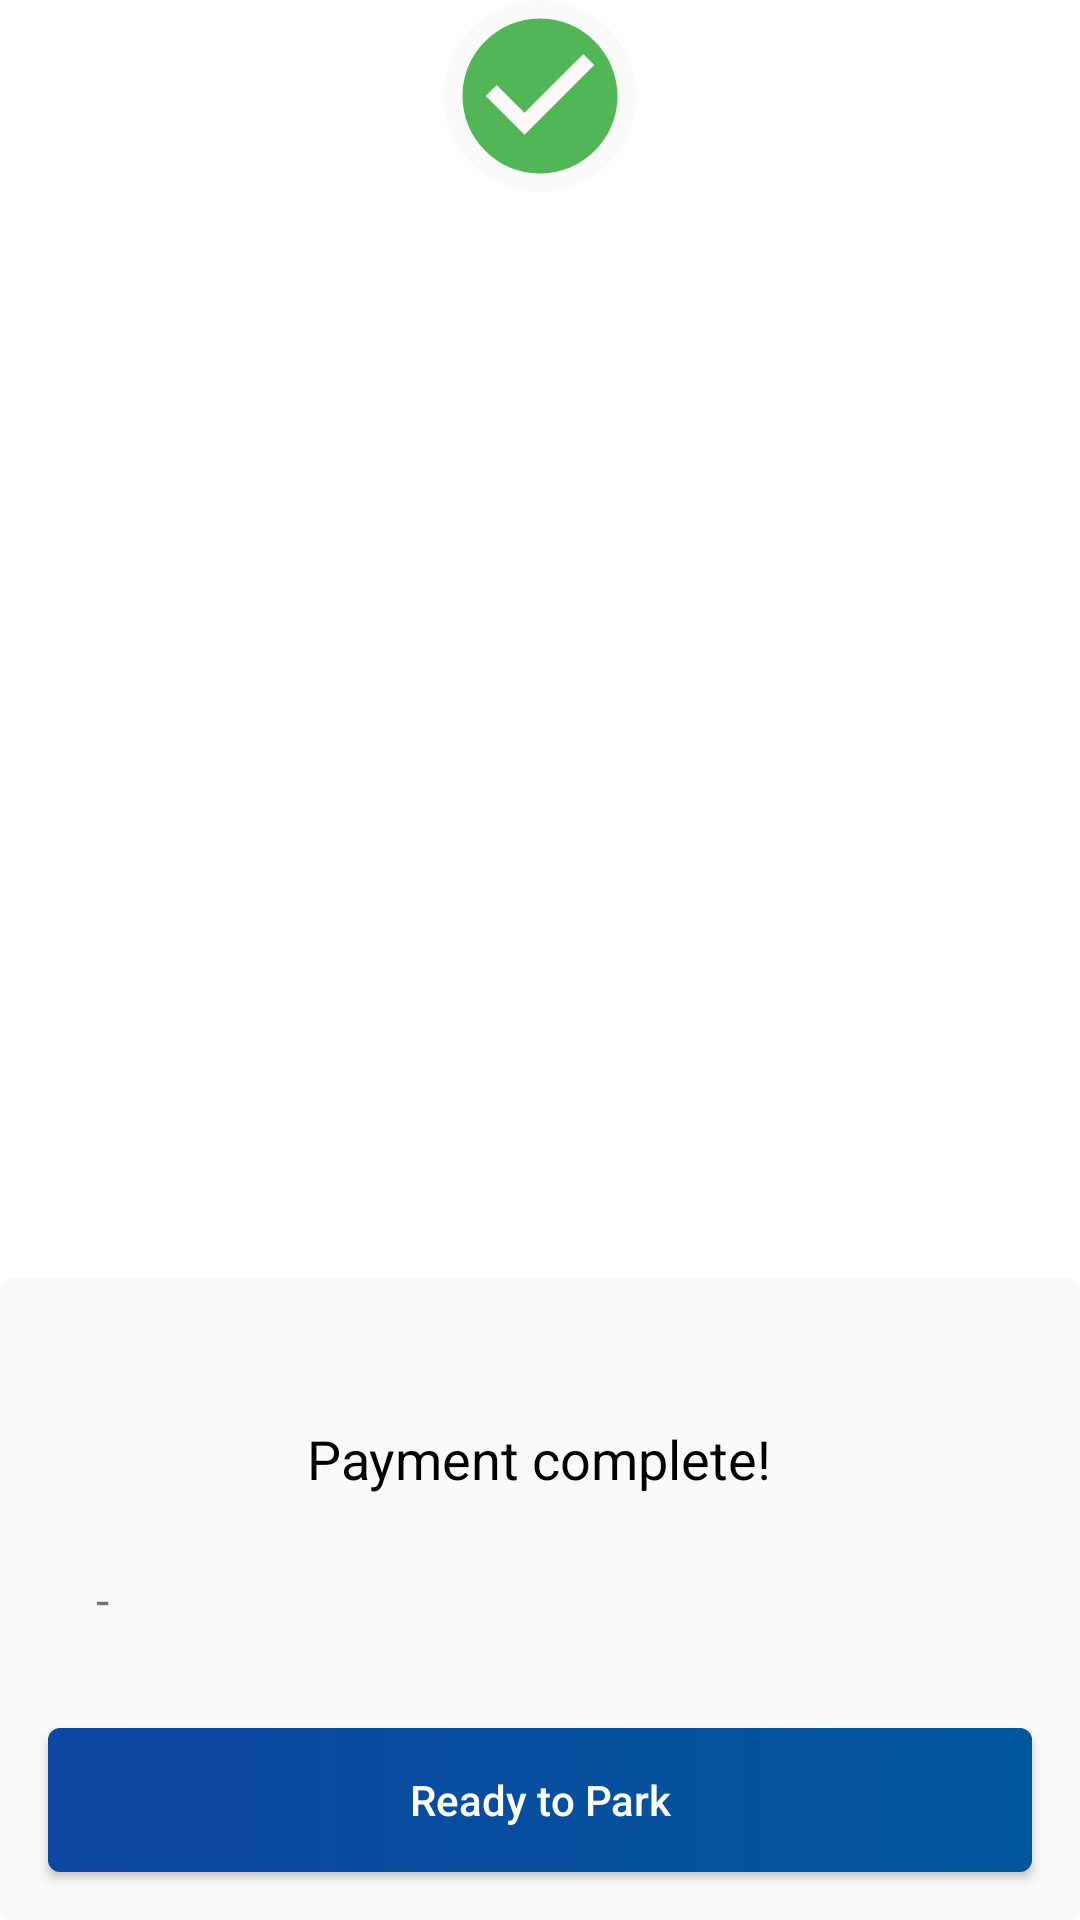

Locate icon controls on the screen. Image size 1080 × 1920, boxes as (x1, y1, x2, y2).
tick: (462, 18, 618, 174)
